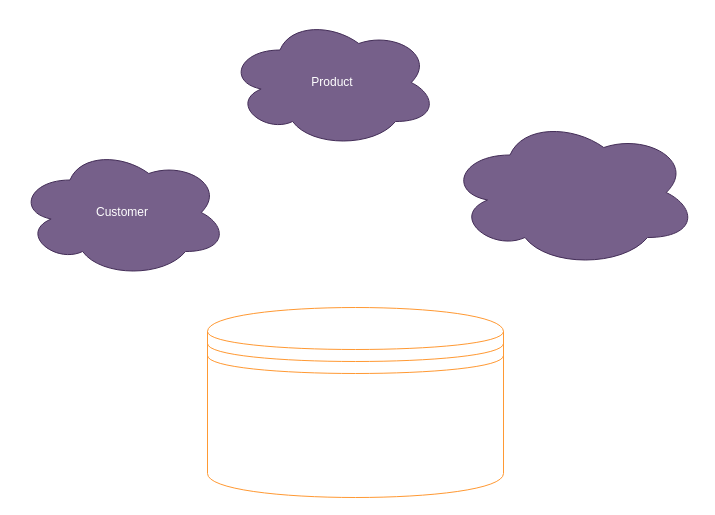
The diagram is 715 pixels wide and 515 high, and some of its shapes have lost their labels. The shapes that lost their labels are listed below. From the top down, each one's centre as x and y in pixels, then its label:
At point 572,192: "Logistic".
At point 355,402: "Famazon".
